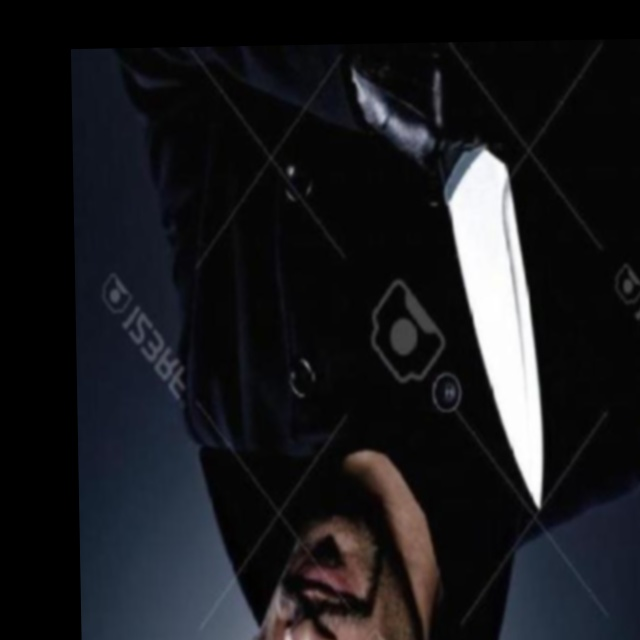Sharp-Object: (435, 142, 546, 511)
